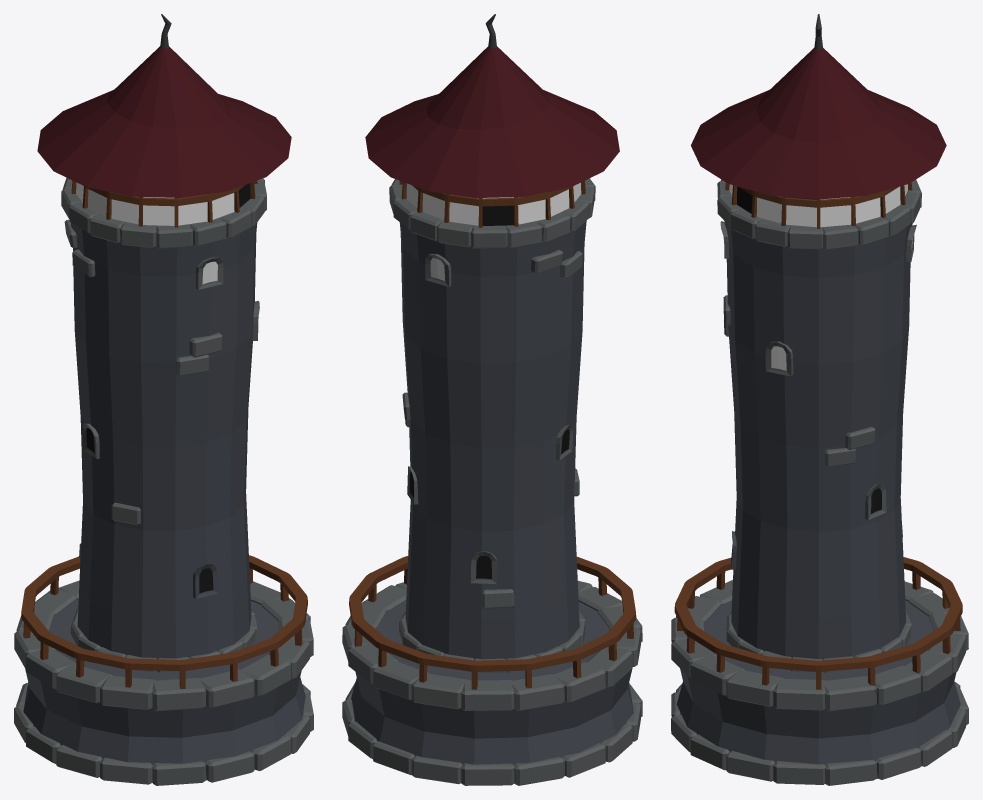
The model's file is SM_Tower.fbx.
The picture shows the model from 3 angles, left to right: view 1: azimuth 30°, elevation 25°; view 2: azimuth 150°, elevation 25°; view 3: azimuth 270°, elevation 25°; orthographic projection.
Parts seen in each view (by area): view 1: Cylinder; view 2: Cylinder; view 3: Cylinder.
Boxes of the visible parts, left/top/right/bottom form: Cylinder: left=14, top=14, right=313, bottom=785; Cylinder: left=342, top=14, right=642, bottom=785; Cylinder: left=671, top=14, right=968, bottom=785.
Bounding box in the file's own units: 610 × 1597 × 608.
